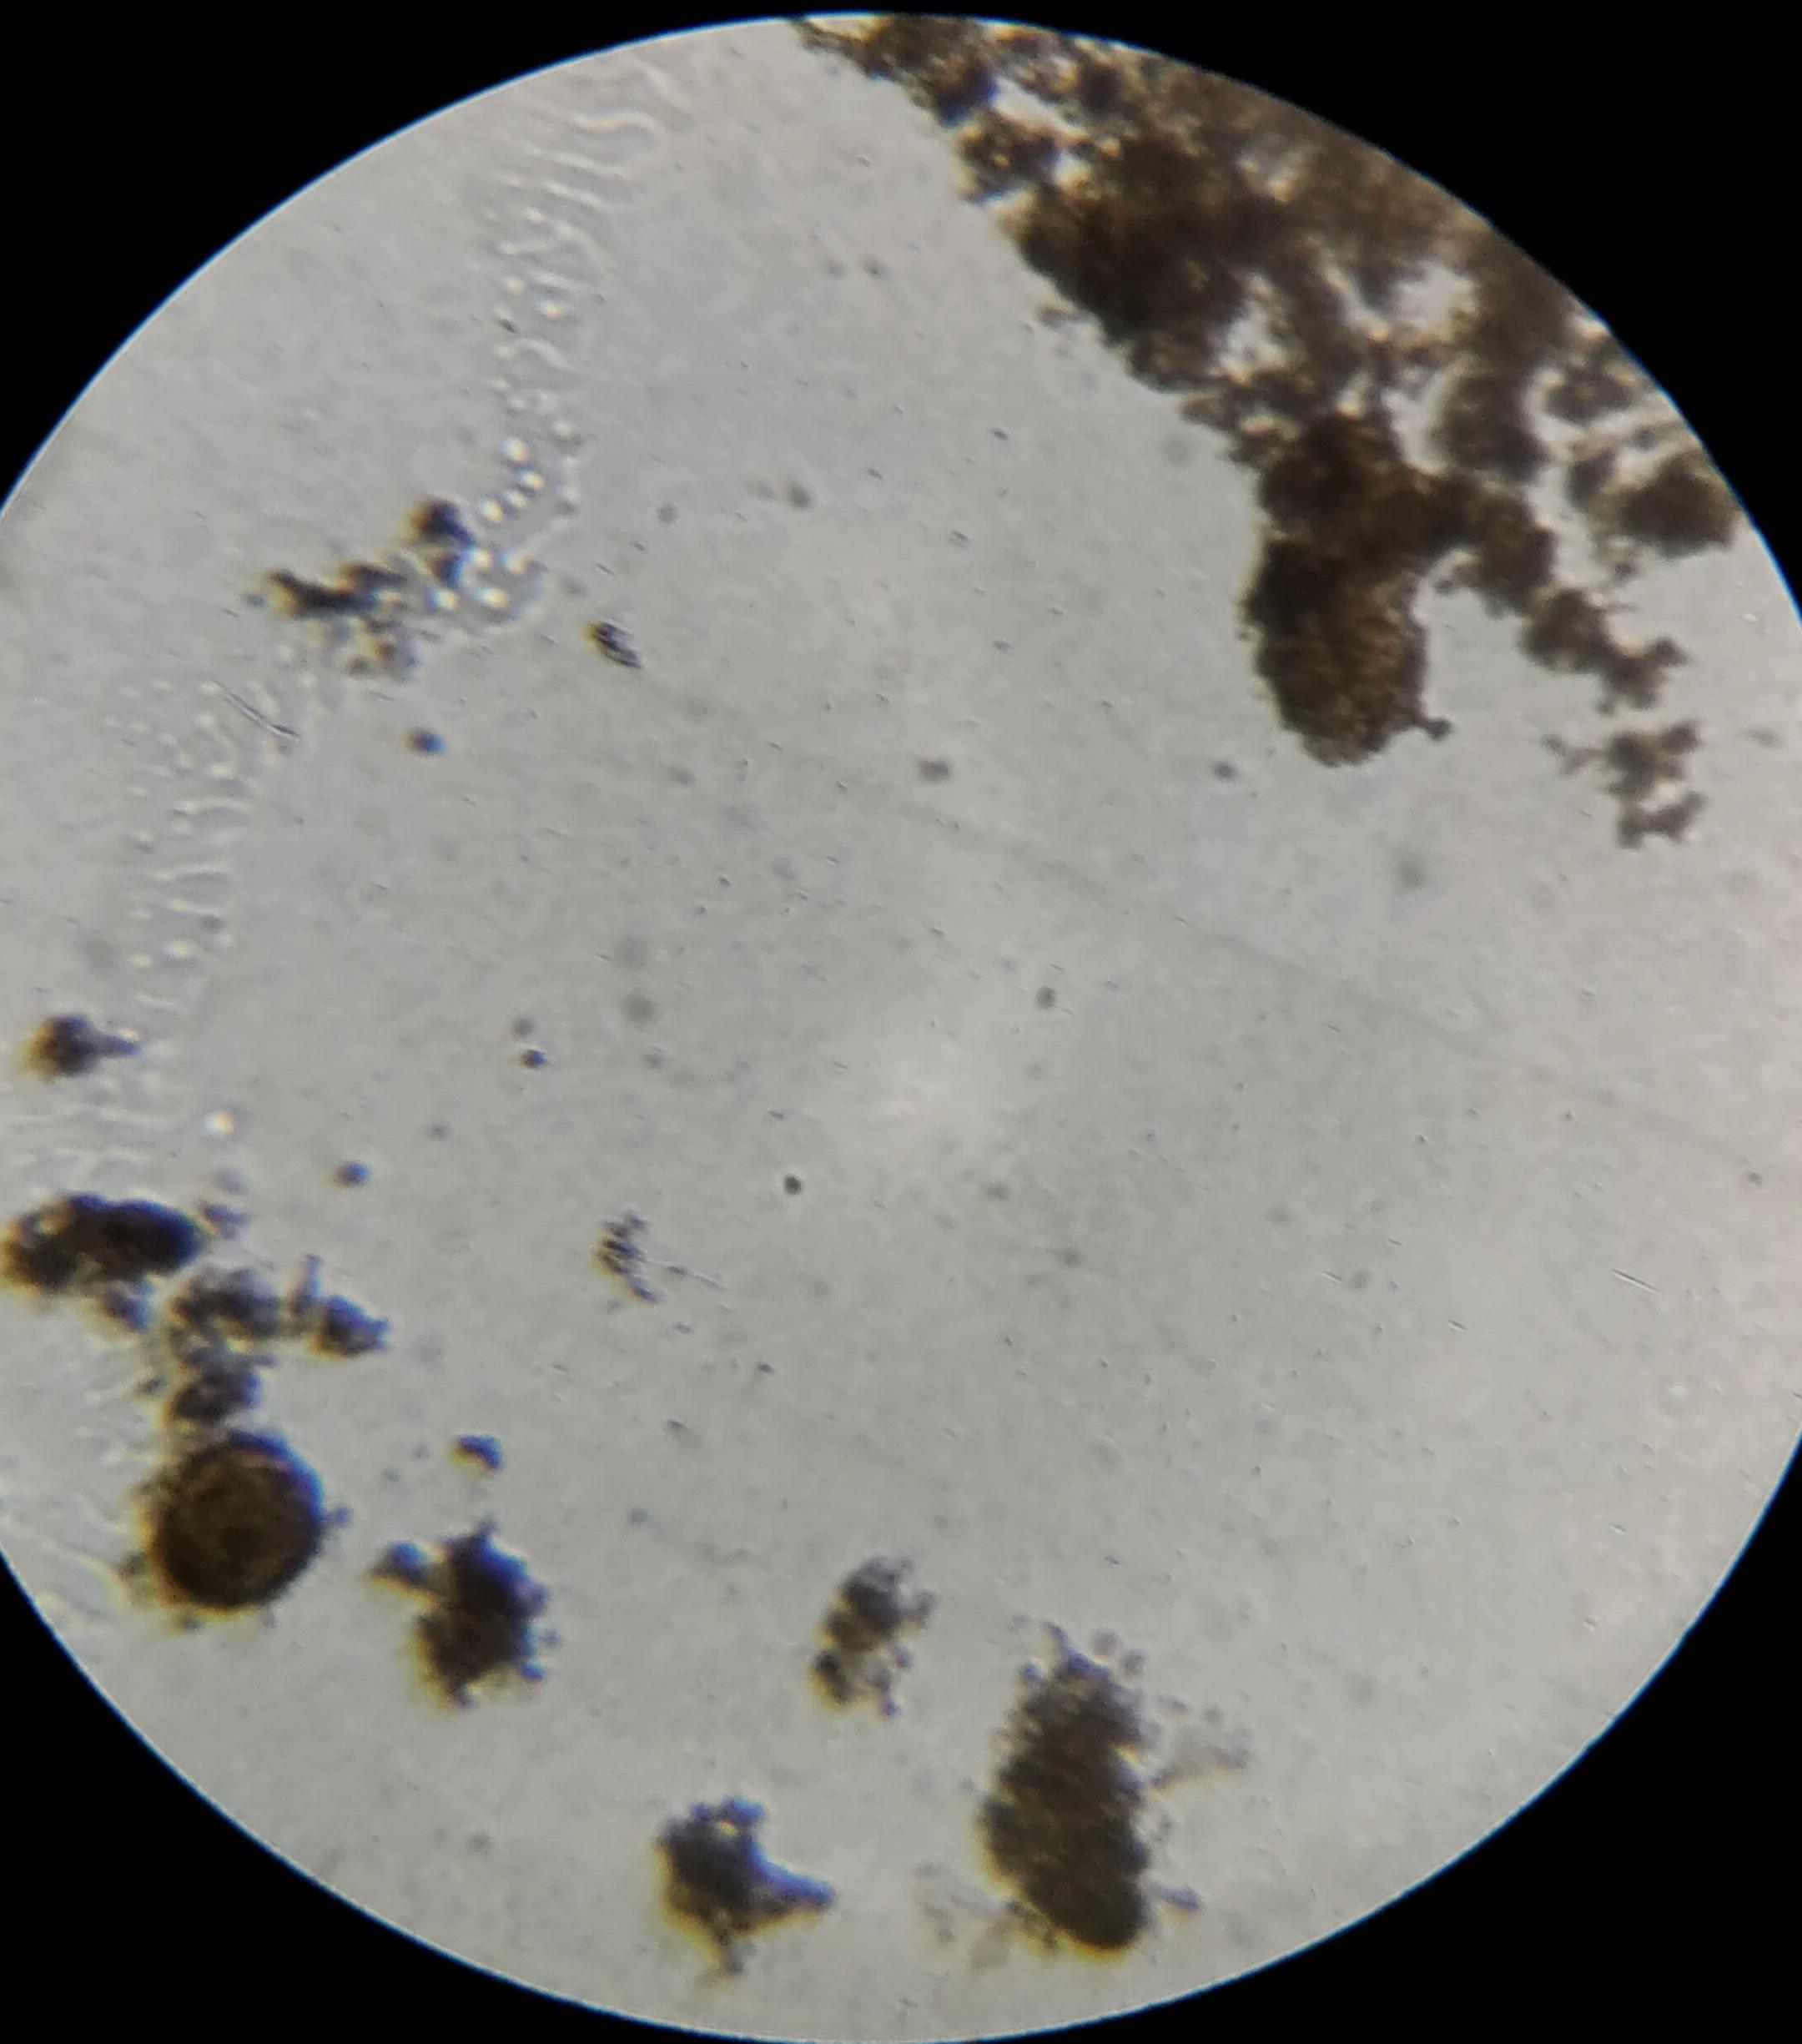Arcella: (170, 1440, 315, 1604)
